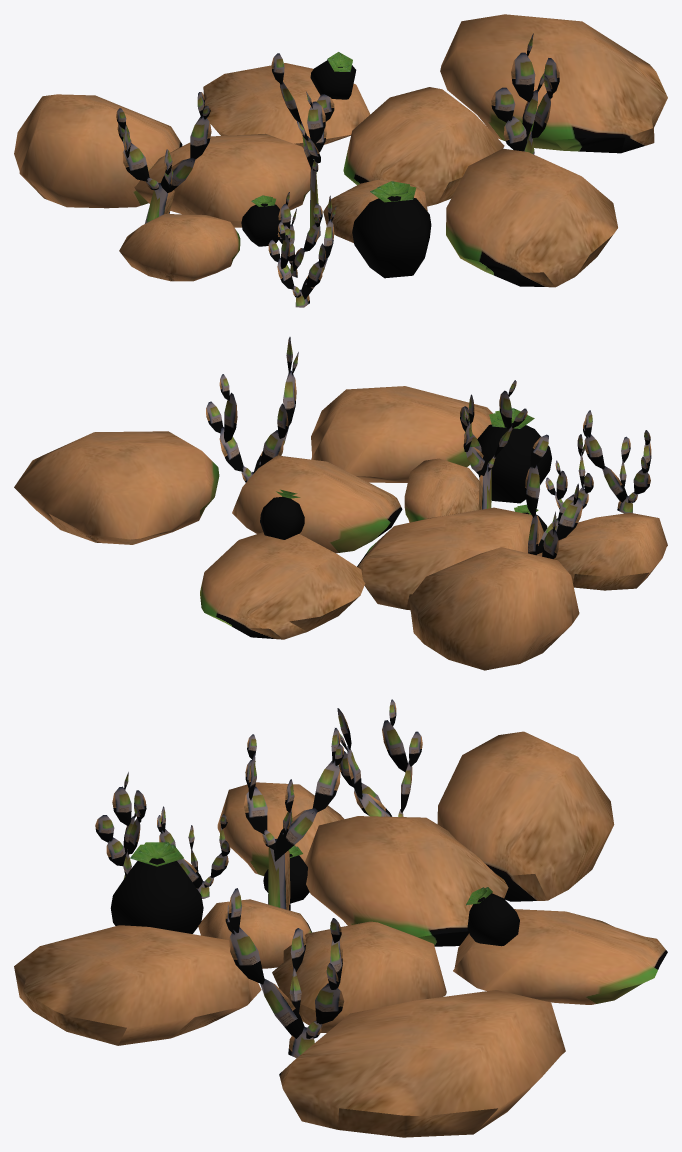
The model's file is rock_cacti_group_circle.fbx.
The picture shows the model from 3 angles, top to bottom: view 1: azimuth 30°, elevation 25°; view 2: azimuth 150°, elevation 25°; view 3: azimuth 270°, elevation 25°; orthographic projection. The views are drawn at different scales.
Visible parts, largest first — view 1: rock_high1, rock_high, rock_high7, rock_high2, rock_high5, rock_high4, rock_high6, cactus, rock_high3, cactus1, cactus2, leaf39 (+8 smaller); view 2: rock_high1, rock_high7, rock_high4, rock_high, rock_high2, rock_high5, rock_high6, rock_high3, cactus, cactus2, leaf27, leaf25 (+4 smaller); view 3: rock_high1, rock_high, rock_high7, rock_high5, rock_high4, rock_high2, cactus, rock_high6, rock_high3, cactus2, leaf56, leaf37 (+7 smaller).
Part boxes in pixels (bbox=[...]): rock_high1: bbox=[440, 14, 667, 153]; rock_high: bbox=[446, 148, 617, 287]; rock_high7: bbox=[14, 94, 182, 208]; rock_high2: bbox=[343, 87, 504, 206]; rock_high5: bbox=[134, 133, 316, 227]; rock_high4: bbox=[203, 63, 370, 148]; rock_high6: bbox=[119, 214, 240, 281]; cactus: bbox=[352, 196, 431, 278]; rock_high3: bbox=[323, 179, 427, 242]; cactus1: bbox=[241, 203, 279, 246]; cactus2: bbox=[310, 60, 356, 99]; leaf39: bbox=[511, 52, 535, 102]; rock_high1: bbox=[14, 431, 219, 544]; rock_high7: bbox=[409, 547, 579, 670]; rock_high4: bbox=[200, 532, 365, 639]; rock_high: bbox=[311, 386, 492, 482]; rock_high2: bbox=[232, 455, 402, 553]; rock_high5: bbox=[357, 507, 543, 610]; rock_high6: bbox=[554, 512, 667, 590]; rock_high3: bbox=[404, 458, 479, 522]; cactus: bbox=[477, 423, 551, 503]; cactus2: bbox=[260, 496, 304, 539]; leaf27: bbox=[553, 498, 582, 540]; leaf25: bbox=[525, 465, 539, 517]; rock_high1: bbox=[279, 990, 565, 1137]; rock_high: bbox=[14, 925, 261, 1045]; rock_high7: bbox=[437, 731, 614, 901]; rock_high5: bbox=[305, 816, 508, 946]; rock_high4: bbox=[453, 909, 667, 1004]; rock_high2: bbox=[272, 921, 446, 1032]; cactus: bbox=[110, 858, 203, 933]; rock_high6: bbox=[217, 782, 344, 875]; rock_high3: bbox=[198, 899, 311, 968]; cactus2: bbox=[467, 893, 519, 946]; leaf56: bbox=[268, 839, 290, 910]; leaf37: bbox=[229, 927, 264, 984].
Bounding box in the file's own units: 1848 × 517 × 1549.
Materials: 2 (2 with a texture image).
